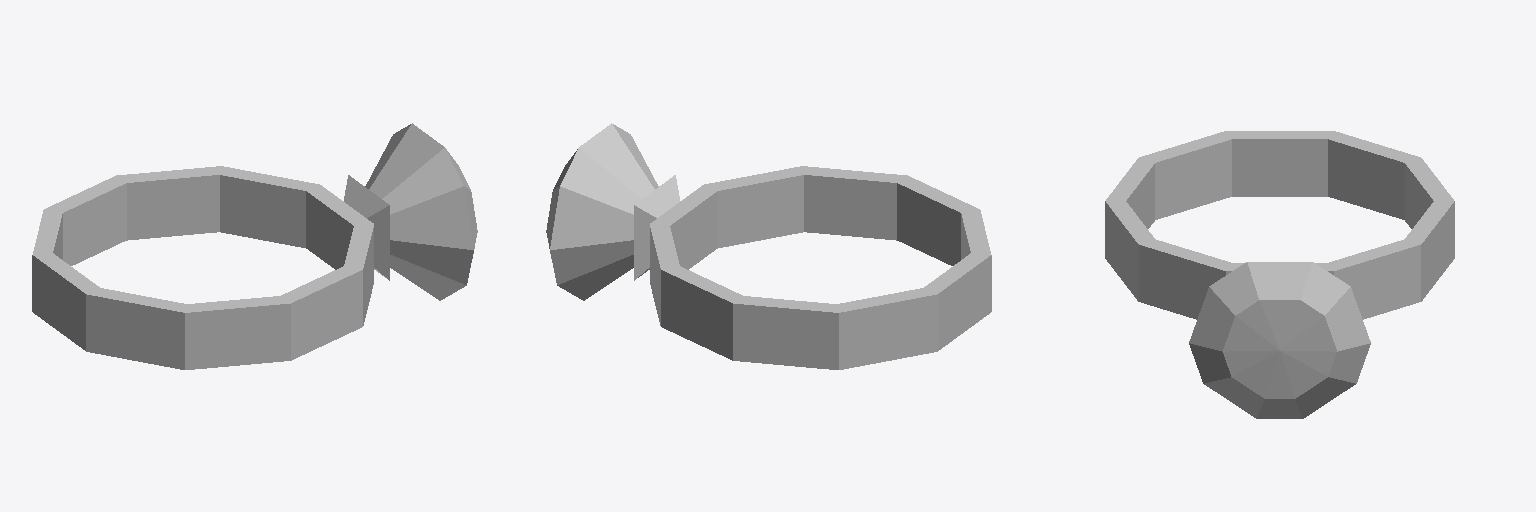
The model's file is DiamondRing.obj.
3 views of the same model, side by side, from view 1: azimuth 30°, elevation 25°; view 2: azimuth 150°, elevation 25°; view 3: azimuth 270°, elevation 25° (orthographic).
Visible parts, largest first — view 1: Ring, Diamond; view 2: Ring, Diamond; view 3: Ring, Diamond.
Boxes of the visible parts, box(x1,y1,x2,y2) form: Ring: box(32, 166, 389, 369); Diamond: box(365, 123, 477, 300); Ring: box(634, 166, 991, 369); Diamond: box(546, 123, 658, 300); Ring: box(1105, 131, 1454, 319); Diamond: box(1189, 262, 1370, 418).
Size of the model in its own units: 2.3 by 0.8782 by 1.77.